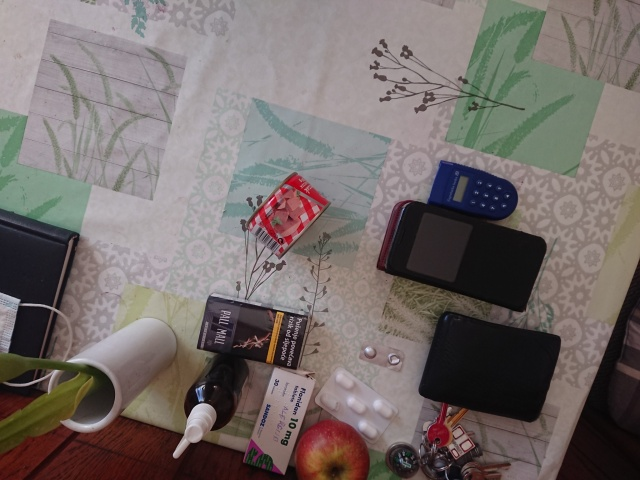Podravka Luncheon Meat 150g: (243, 169, 334, 263)
